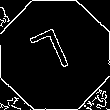L_SE: (30, 26, 80, 84)
